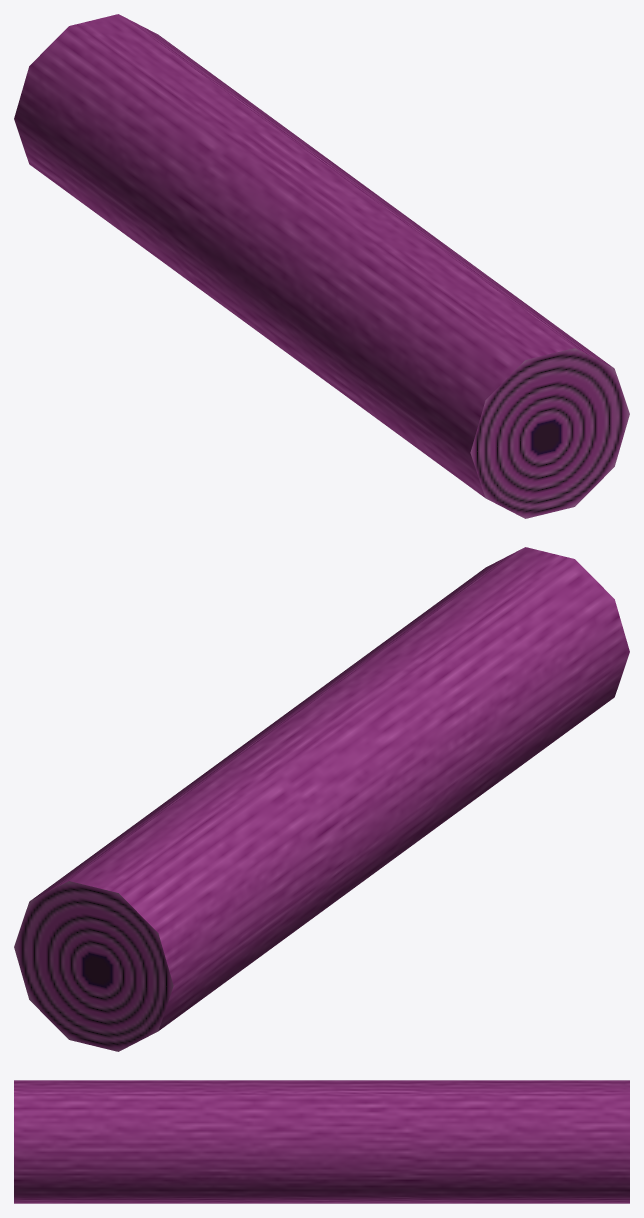
File: Yoga_Mat_Roll_B.FBX
3 views of the same model, one above another, from view 1: azimuth 30°, elevation 25°; view 2: azimuth 150°, elevation 25°; view 3: azimuth 270°, elevation 25° (orthographic). The views are drawn at different scales.
Parts seen in each view (by area): view 1: Yogamat_Roll; view 2: Yogamat_Roll; view 3: Yogamat_Roll.
Boxes of the visible parts, left/top/right/bottom form: Yogamat_Roll: left=14, top=14, right=629, bottom=518; Yogamat_Roll: left=14, top=547, right=629, bottom=1051; Yogamat_Roll: left=14, top=1080, right=629, bottom=1203.
Size of the model in its own units: 29.29 by 27.86 by 145.
